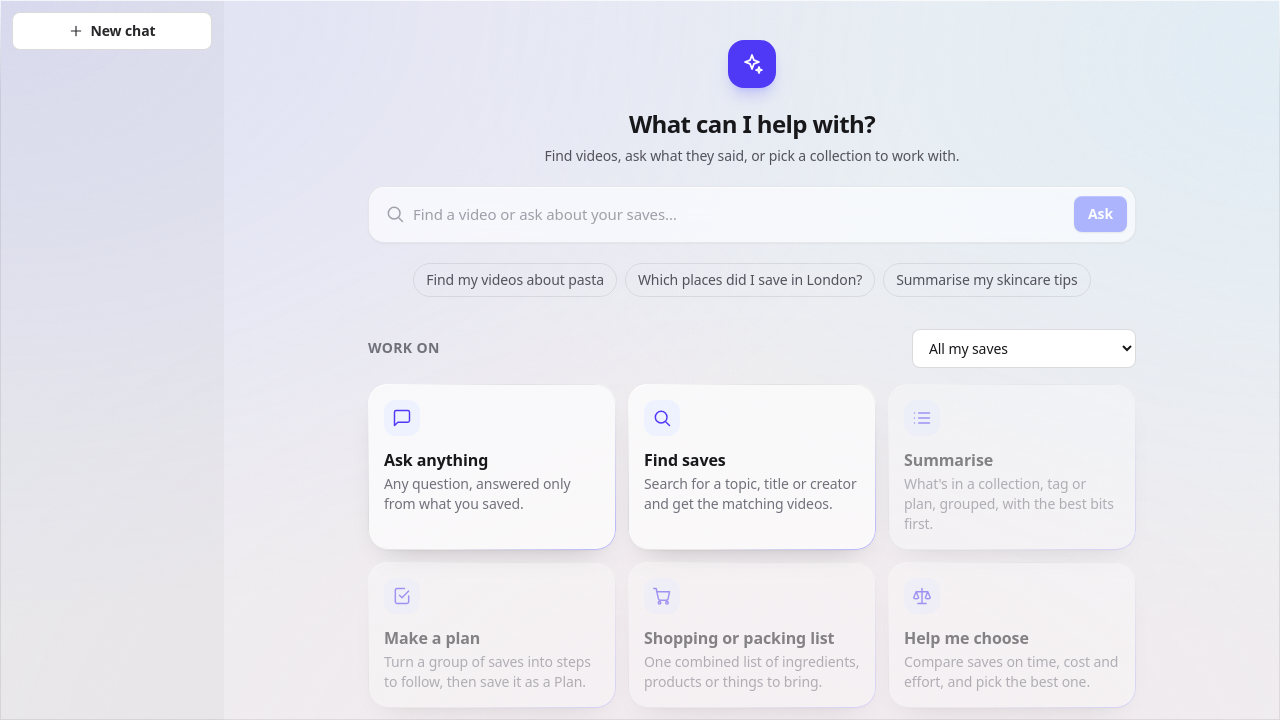
Test case: the bar at the bottom starts a chat with whatever you type
This screenshot has width=1280, height=720.
Expected: the text "Find videos, ask what they said" is shown, [545, 146, 959, 165]
Type "any gym ideas?" into the field named "Ask anything" at [740, 214], box [413, 195, 1066, 234]
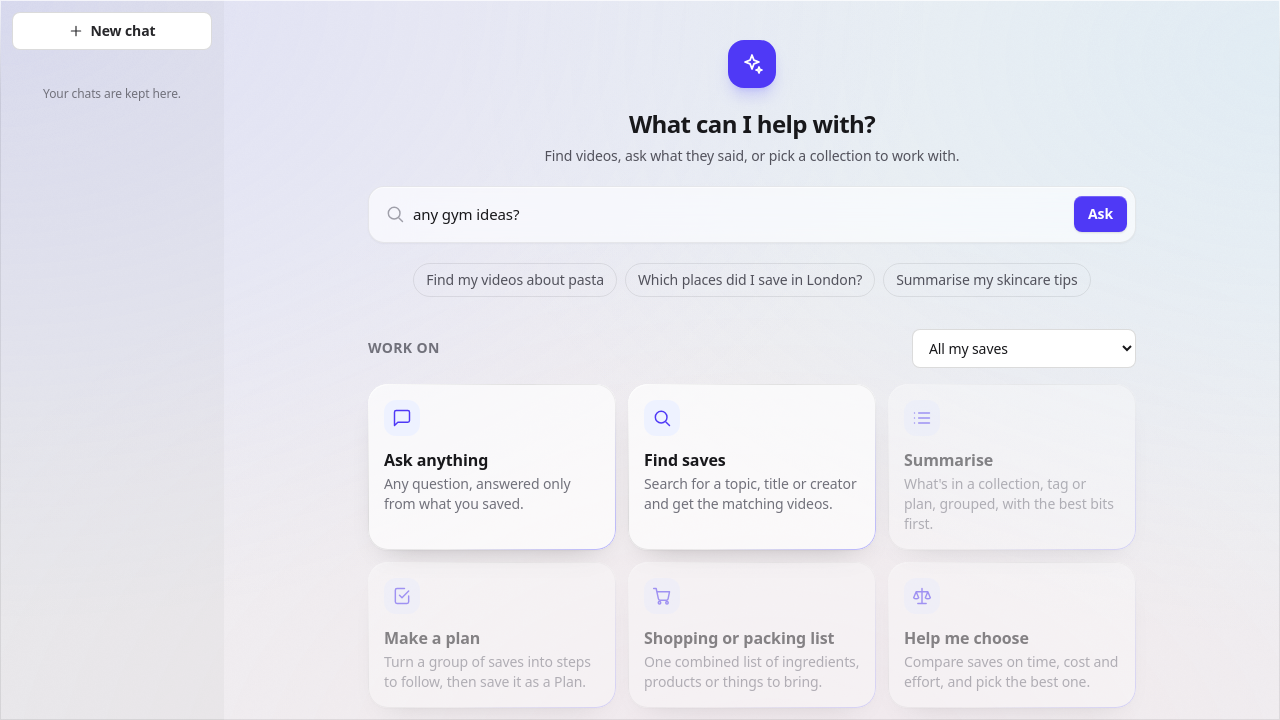
Click the button "Ask" at [1100, 214], box [1074, 196, 1127, 232]
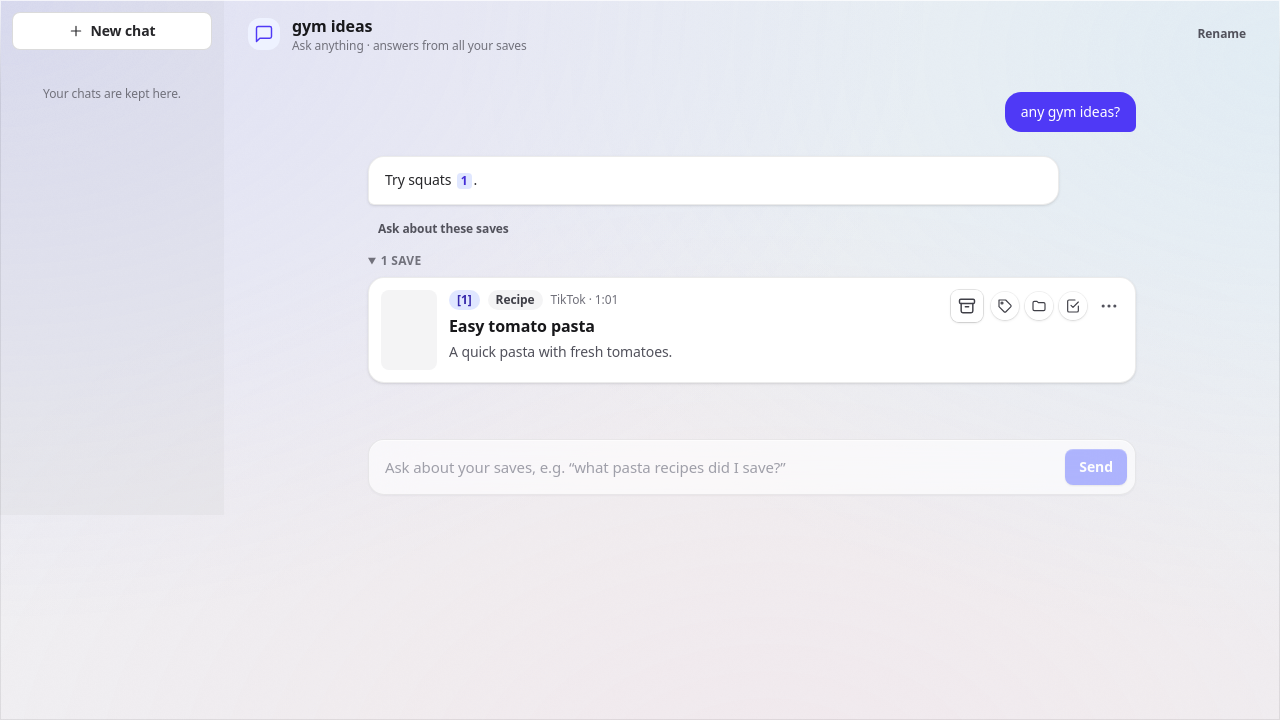
Now the element with test id "answer" reads "Try squats 1 .", box [368, 156, 1059, 205]
